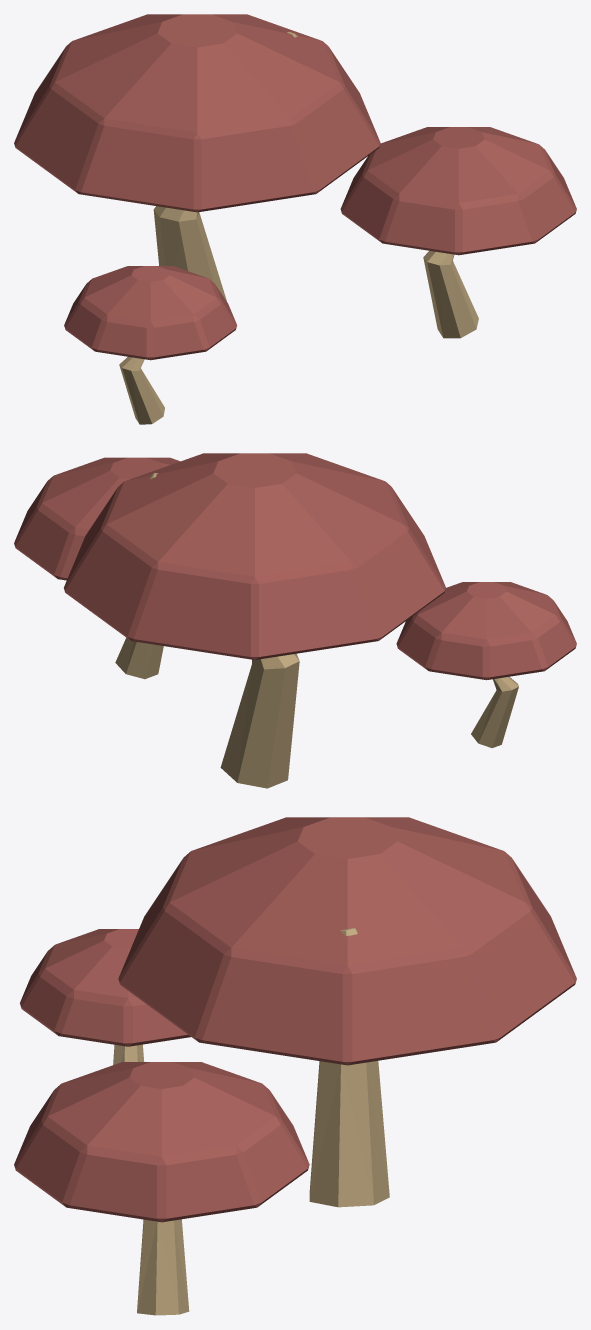
The model's file is mushroom_cluster.glb.
The picture shows the model from 3 angles, top to bottom: view 1: azimuth 30°, elevation 25°; view 2: azimuth 150°, elevation 25°; view 3: azimuth 270°, elevation 25°; orthographic projection. The views are drawn at different scales.
Visible parts, largest first — view 1: mushroom_cluster; view 2: mushroom_cluster; view 3: mushroom_cluster.
Part boxes in pixels (x1=…): mushroom_cluster: x1=14, y1=14, x2=576, y2=424; mushroom_cluster: x1=14, y1=453, x2=576, y2=788; mushroom_cluster: x1=14, y1=817, x2=576, y2=1315.
Size of the model in its own units: 0.8501 by 0.4793 by 0.6667.
